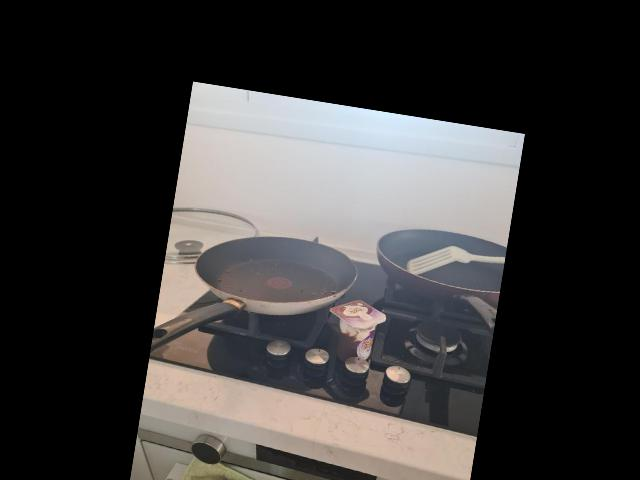milky: (318, 297, 387, 364)
